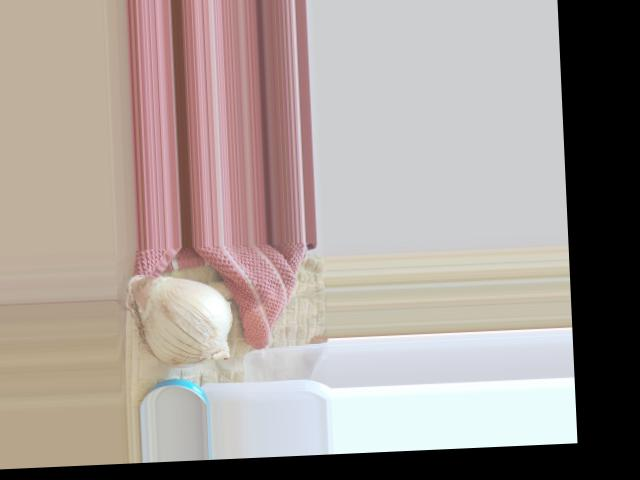onion: (128, 270, 233, 370)
